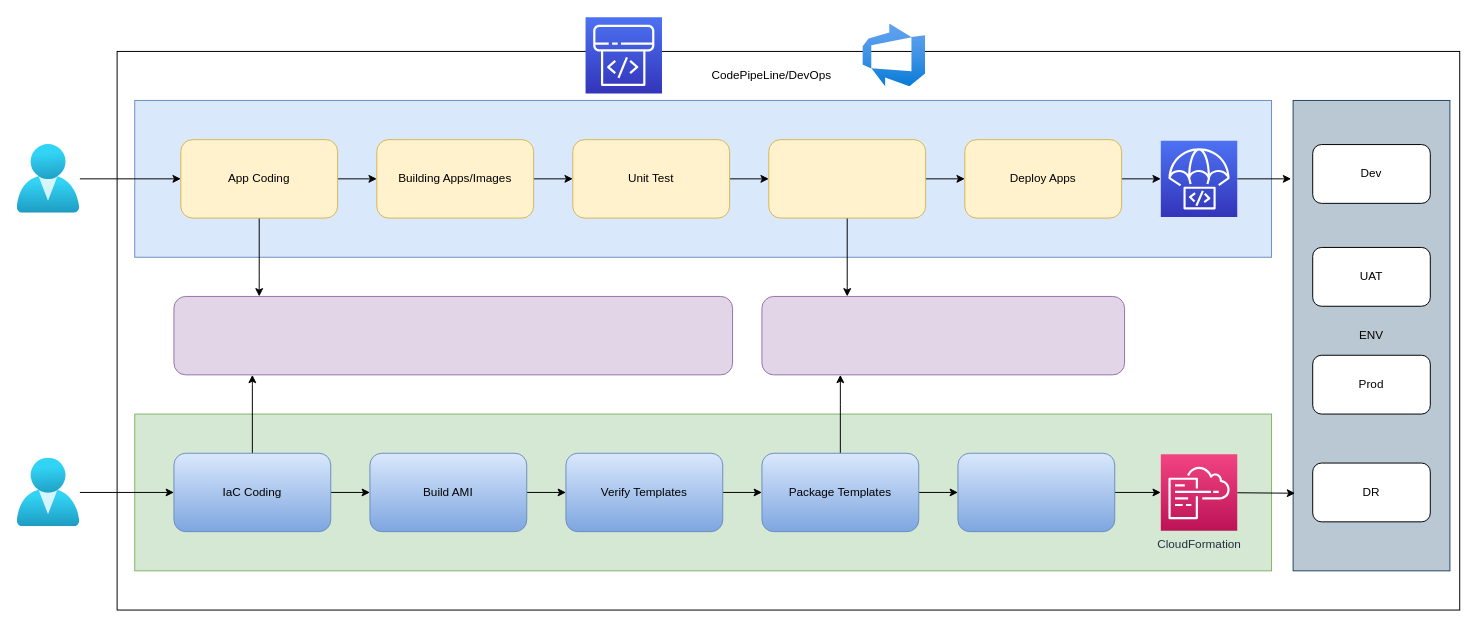
Some shapes in this 1477 by 627 pixel diagram are drawn without their labels. Each missing label, with the centre of its shape:
"Admins" belongs at (48,492).
"Artifacts" belongs at (943,335).
"code Deploy" belongs at (1198,178).
"Deploy Infrastructure" belongs at (1036,492).
"Developers" belongs at (48,178).
"Package Apps" belongs at (847,178).
"Version Control" belongs at (453,335).
